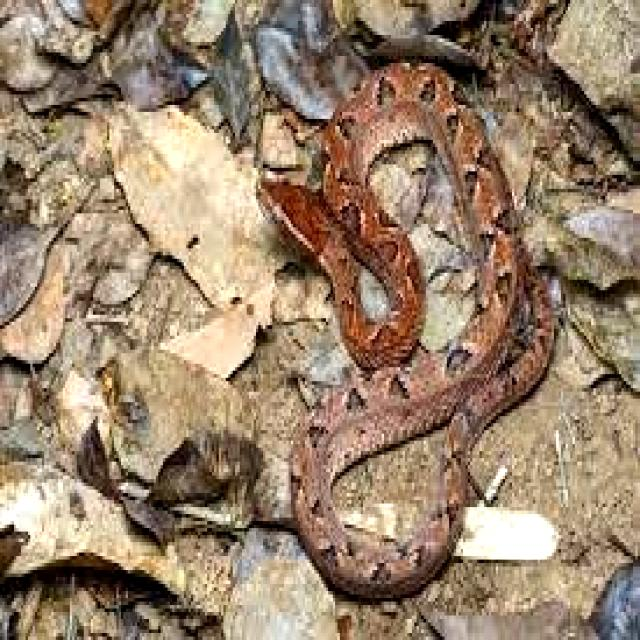Calloselasma rhodostoma: (259, 63, 553, 598)
